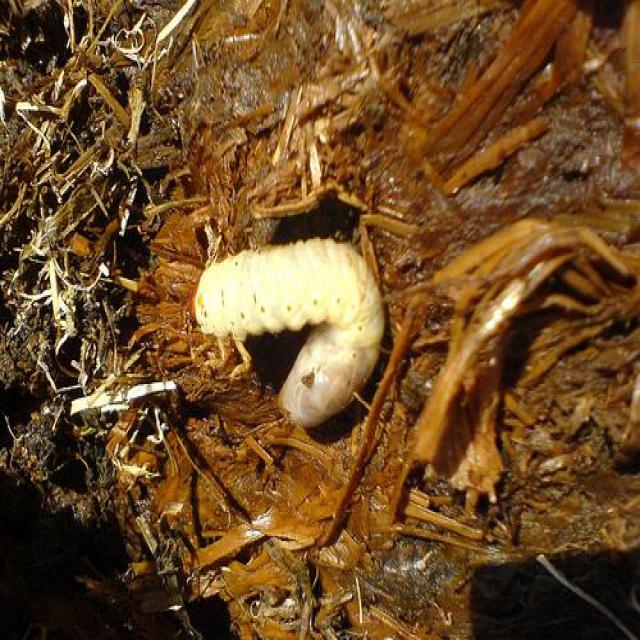Grub-Adult-: (183, 229, 388, 439)
